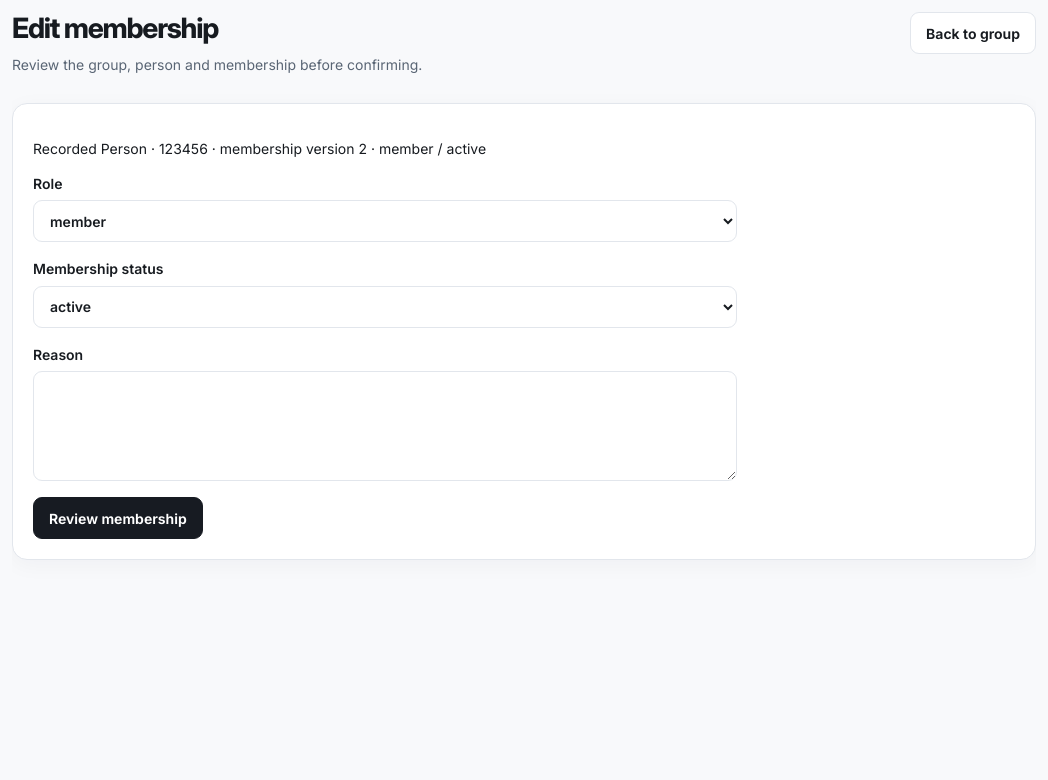
Test: legacy membership pages › reviews current version and sends the exact membership edit after fresh verification
Select "admin" in the dropdown labelled "Role" at (385, 221), box [33,200,737,242]
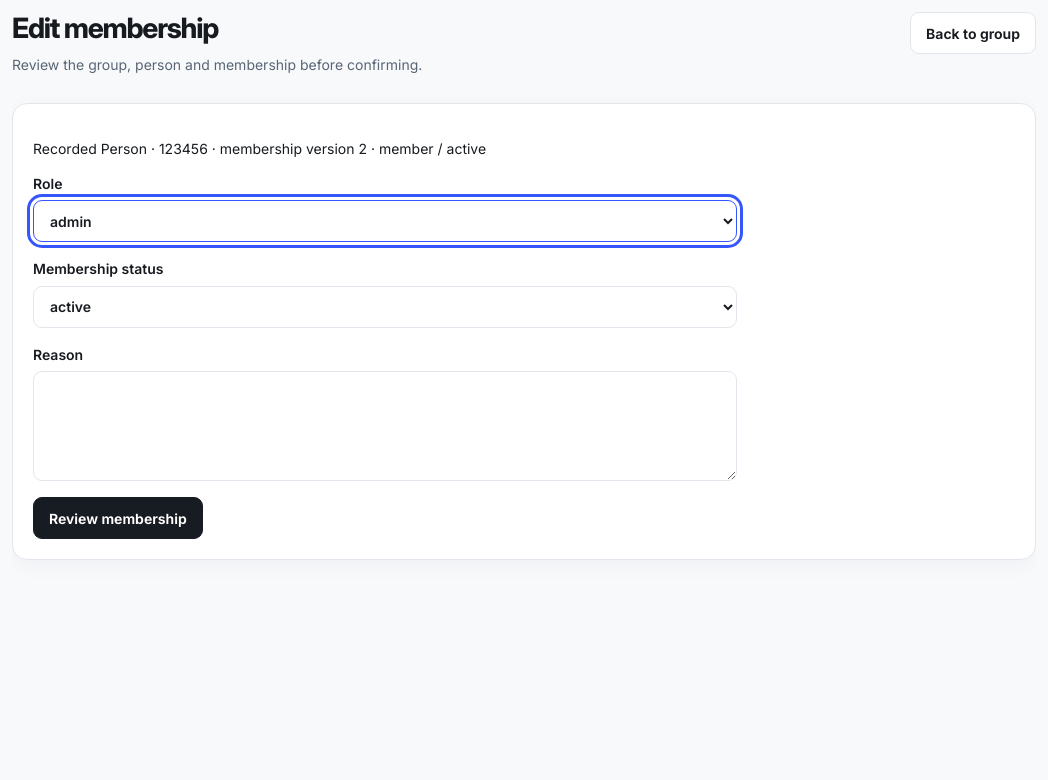
Type "Review membership change" into the text box labelled "Reason".
click(385, 426); type("Review membership change")  # box [33,371,737,481]
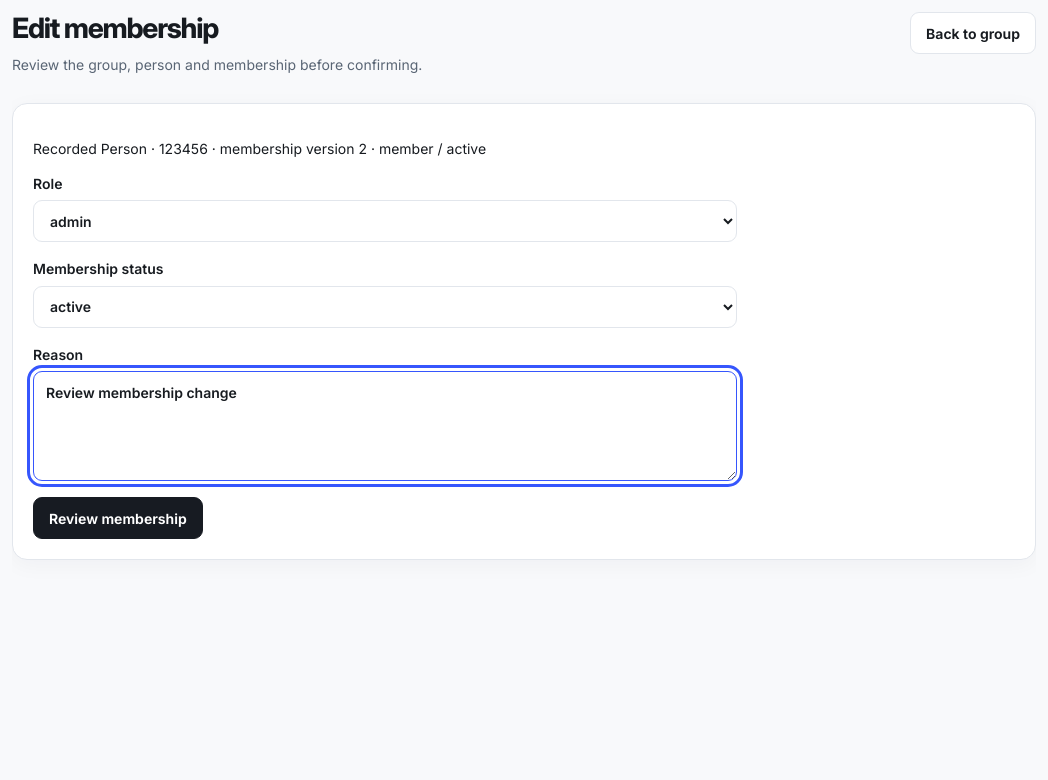
Click the button "Review membership".
click(118, 518)  # box [33,497,203,539]
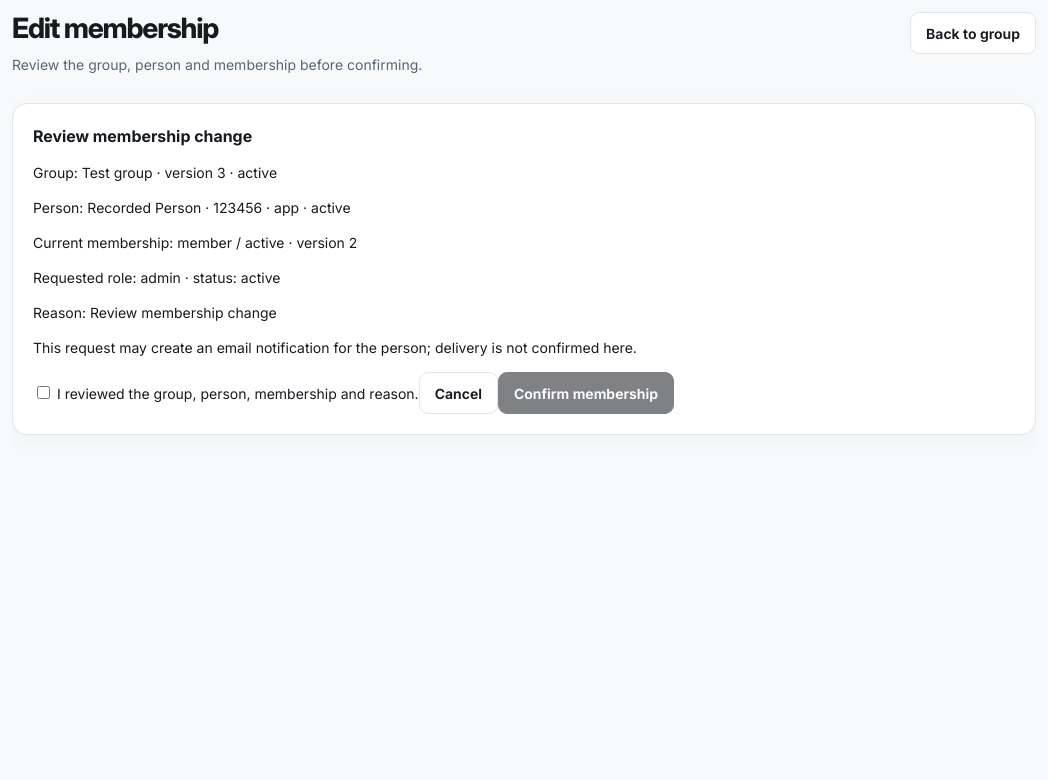
Now the text "Current membership: member / active · version 2" is shown, box [33,234,357,251]
Click the checkbox labelled "I reviewed the group, person, membership and reason.".
click(44, 392)  # box [37,386,50,398]
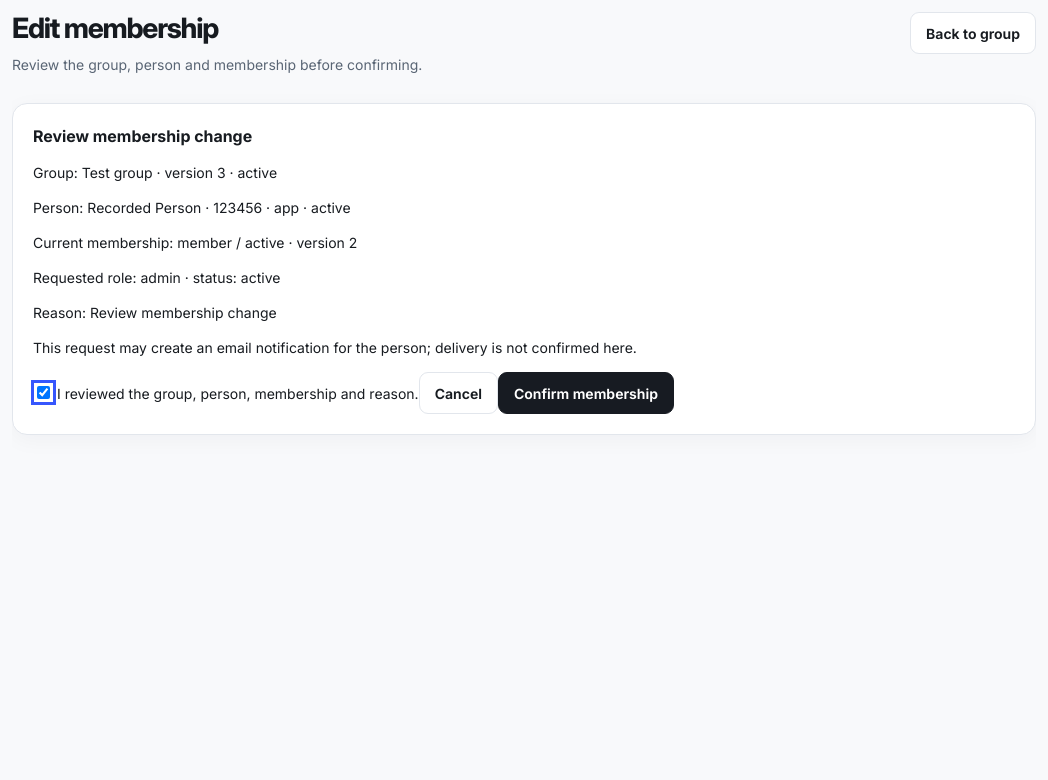
Click the button "Confirm membership".
click(586, 393)  # box [498,372,674,414]
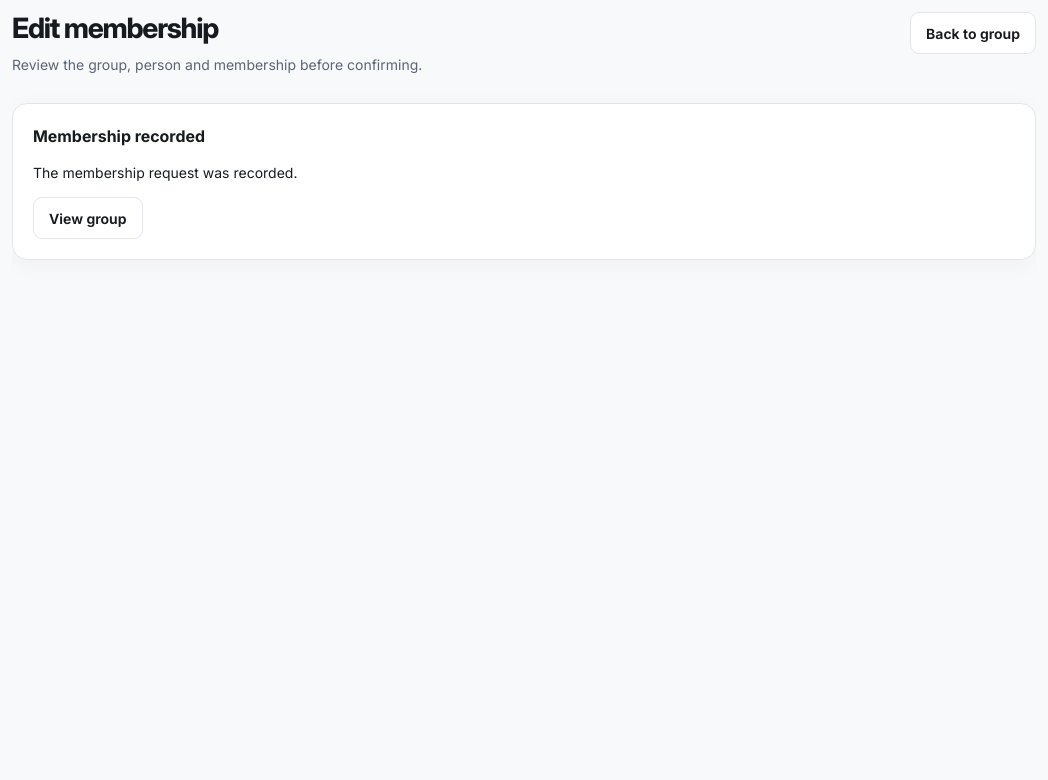
Now the text "The membership request was recorded." is shown, box [33,164,297,181]
